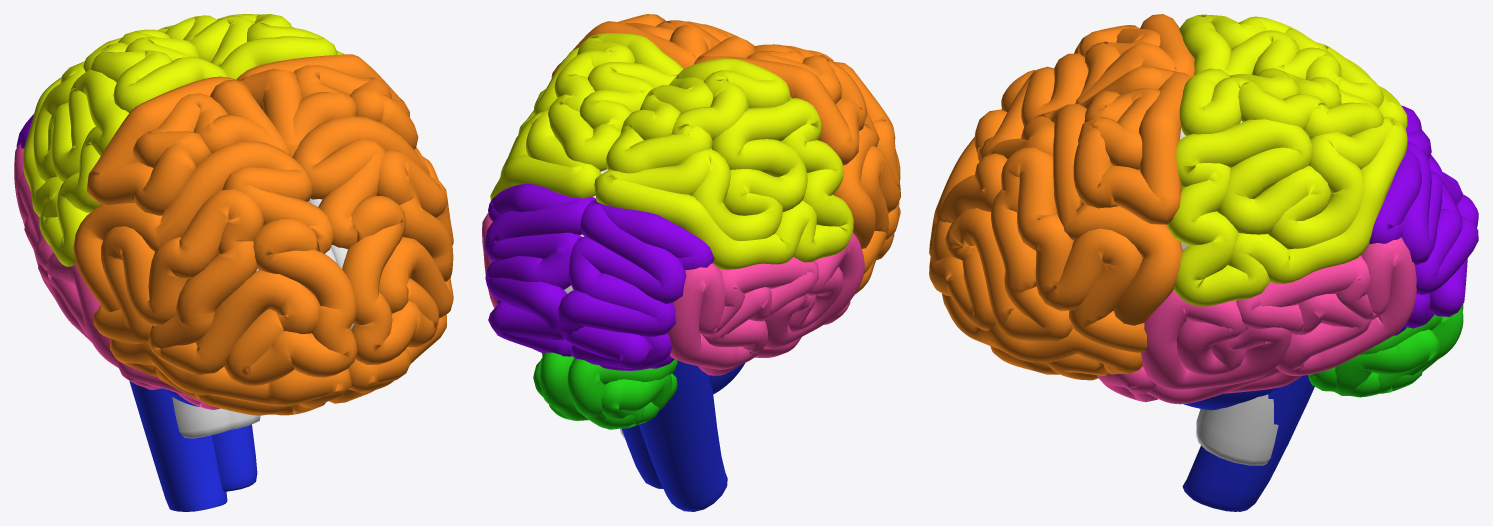
File: Brain3D.fbx
3 views of the same model, side by side, from view 1: azimuth 30°, elevation 25°; view 2: azimuth 150°, elevation 25°; view 3: azimuth 270°, elevation 25° (orthographic). The views are drawn at different scales.
Parts seen in each view (by area): view 1: L Frontal, R Frontal, L Parietal, L Brain Stem, R Parietal, L Temporal, Cube, R Brain Stem; view 2: L Parietal, L Occipital, L Temporal, R Parietal, L Frontal, R Occipital, L Brain Stem, L Cerebellum, R Frontal, R Cerebellum, R Brain Stem; view 3: R Frontal, R Parietal, R Temporal, L Frontal, R Occipital, L Parietal, R Cerebellum, R Brain Stem, Cube, L Occipital.
Boxes of the visible parts, x1,y1,x2,y2 form: L Frontal: (73, 76, 357, 415); R Frontal: (236, 54, 453, 403); L Parietal: (23, 29, 227, 266); L Brain Stem: (129, 381, 227, 511); R Parietal: (158, 14, 344, 79); L Temporal: (14, 143, 220, 409); Cube: (172, 198, 353, 438); R Brain Stem: (212, 424, 257, 491); L Parietal: (594, 58, 853, 269); L Occipital: (558, 199, 714, 370); L Temporal: (667, 233, 864, 375); R Parietal: (490, 33, 683, 201); L Frontal: (693, 36, 900, 293); R Occipital: (484, 184, 595, 356); L Brain Stem: (639, 360, 744, 511); L Cerebellum: (567, 358, 677, 429); R Frontal: (551, 14, 754, 77); R Cerebellum: (533, 352, 588, 420); R Brain Stem: (621, 425, 663, 488); R Frontal: (929, 66, 1190, 380); R Parietal: (1167, 68, 1407, 306); R Temporal: (1096, 237, 1416, 404); L Frontal: (929, 14, 1194, 255); R Occipital: (1369, 141, 1478, 335); L Parietal: (1179, 14, 1407, 128); R Cerebellum: (1308, 307, 1463, 397); R Brain Stem: (1183, 375, 1311, 511); Cube: (1180, 120, 1278, 465); L Occipital: (1401, 105, 1478, 227).
Bounding box in the file's own units: 401 × 514 × 549.
